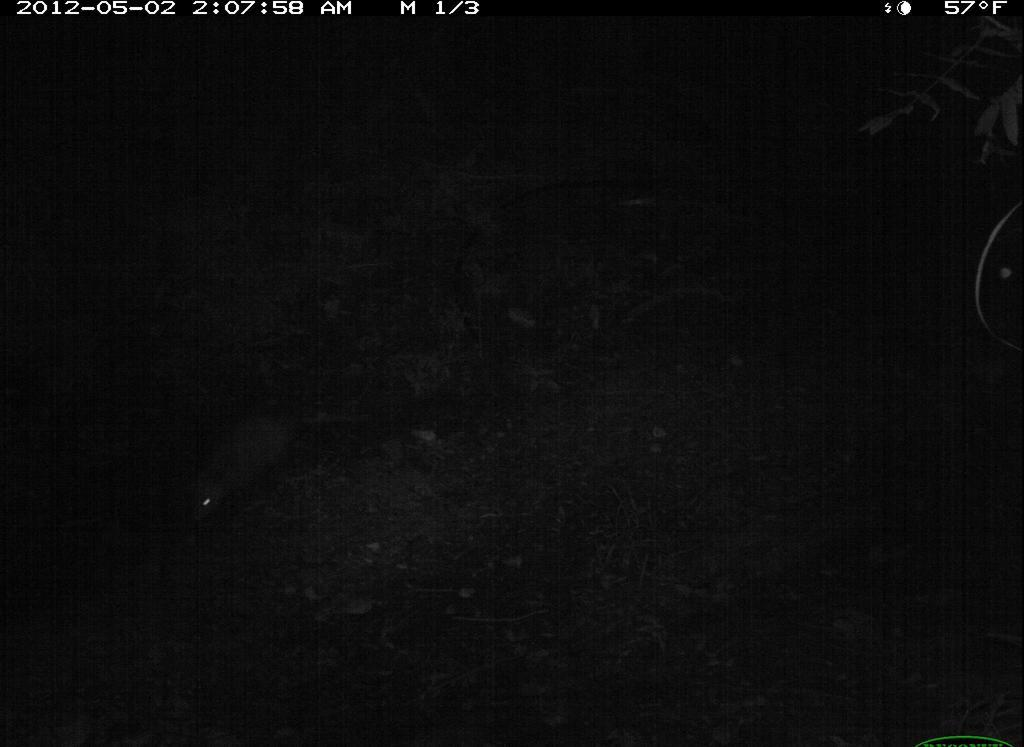opossum: (178, 395, 372, 529)
